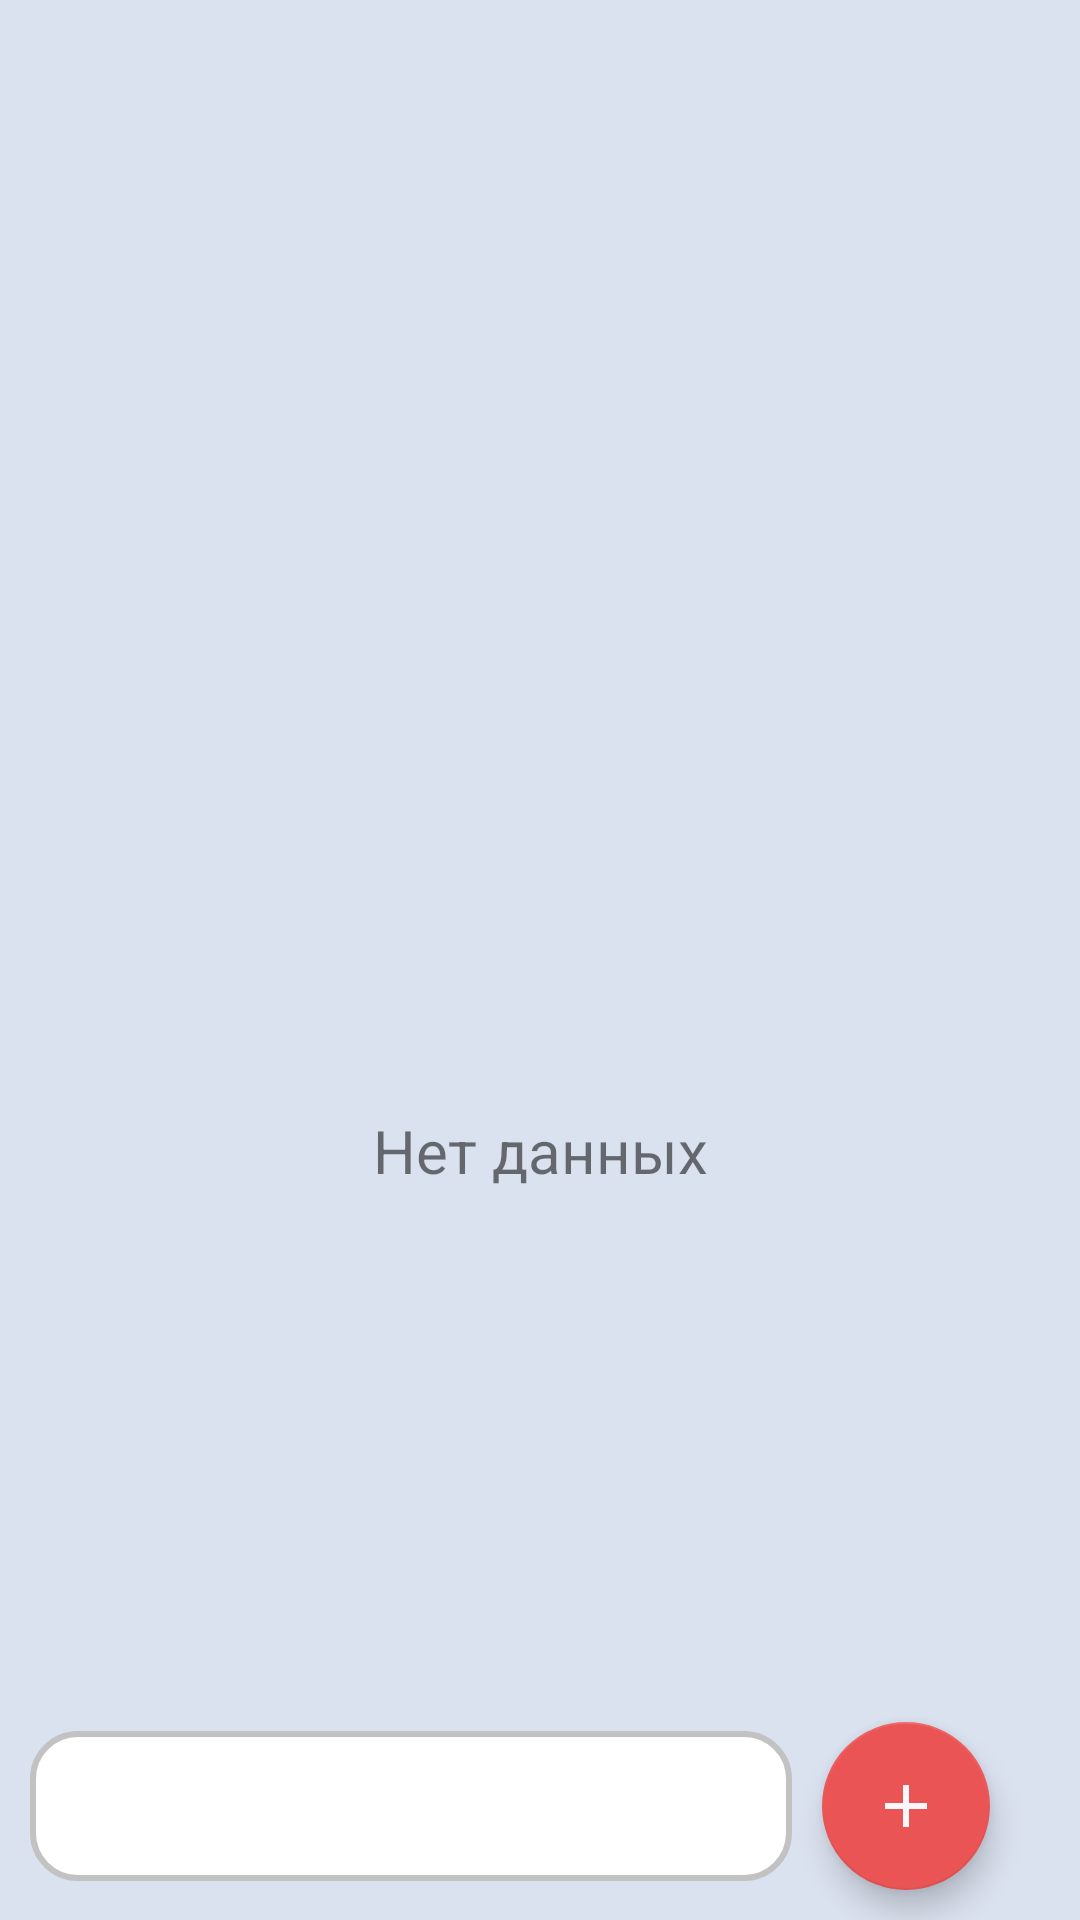

Named icons in this screenshot (1080px×1920px) and their bounding boxes, (x1, y1, x2, y2):
Добавить заметку: (822, 1722, 990, 1890)
